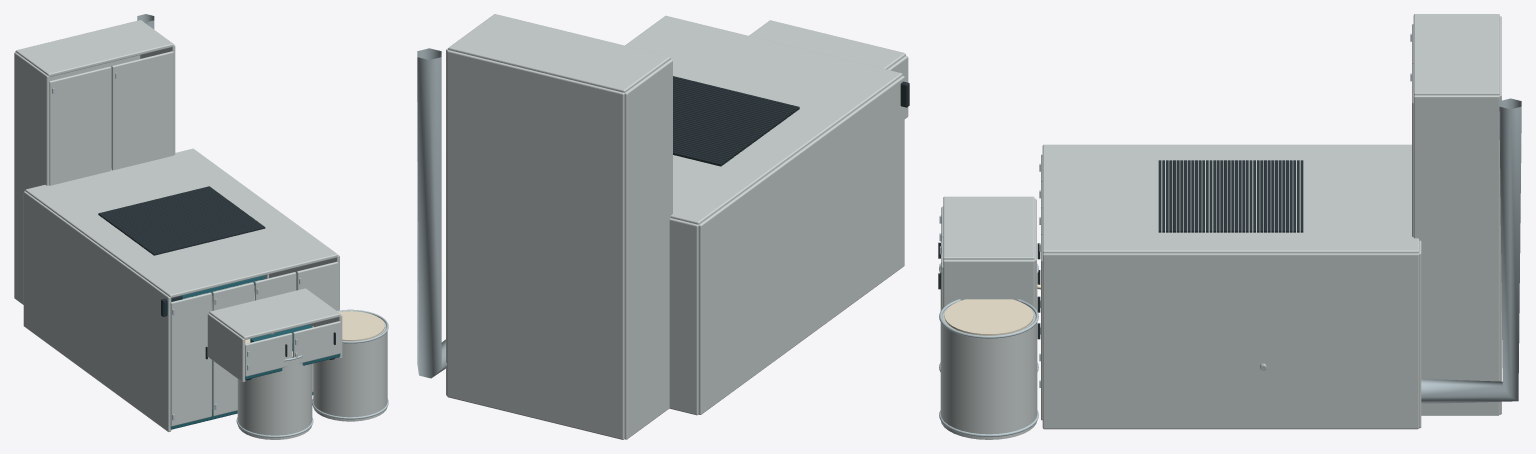
Rendered from carding.glb.
3 views of the same model, side by side, from view 1: azimuth 30°, elevation 25°; view 2: azimuth 150°, elevation 25°; view 3: azimuth 270°, elevation 25° (orthographic). The views are drawn at different scales.
Parts seen in each view (by area): view 1: C81_main_end, C81_main_roof, C81_feed_chute_door.001, C81_feed_chute_door, C81_feed_chute_end, can_body.001, C81_main_door, can_body, C81_feed_chute_roof, C81_coiler_roof, C81_main_door.001, C81_coiler_end (+9 smaller); view 2: C81_feed_chute_rear, C81_main_end, C81_main_roof, C81_feed_chute_end, C81_feed_chute_roof, C81_suction_main, C81_main_rear, C81_coiler_roof, C81_feed_chute_end.001; view 3: C81_main_end.001, C81_main_roof, C81_feed_chute_end.001, can_body.001, C81_suction_main, C81_feed_chute_roof, C81_coiler_roof, C81_coiler_end.001, sliver_surface.001, can_rim.003, C81_main_rear.
Boxes of the visible parts, x1=… form: C81_main_end: x1=23, y1=191, x2=171, y2=431; C81_main_roof: x1=25, y1=148, x2=338, y2=297; C81_feed_chute_door.001: x1=111, y1=51, x2=173, y2=170; C81_feed_chute_door: x1=49, y1=66, x2=110, y2=185; C81_feed_chute_end: x1=14, y1=52, x2=49, y2=304; can_body.001: x1=313, y1=319, x2=387, y2=421; C81_main_door: x1=170, y1=292, x2=211, y2=426; can_body: x1=237, y1=358, x2=312, y2=439; C81_feed_chute_roof: x1=15, y1=20, x2=173, y2=76; C81_coiler_roof: x1=209, y1=288, x2=340, y2=339; C81_main_door.001: x1=212, y1=282, x2=253, y2=416; C81_coiler_end: x1=207, y1=313, x2=245, y2=382; C81_feed_chute_rear: x1=447, y1=50, x2=624, y2=439; C81_main_end: x1=698, y1=76, x2=904, y2=414; C81_main_roof: x1=625, y1=15, x2=902, y2=224; C81_feed_chute_end: x1=624, y1=59, x2=672, y2=439; C81_feed_chute_roof: x1=448, y1=14, x2=670, y2=92; C81_suction_main: x1=417, y1=48, x2=446, y2=378; C81_main_rear: x1=669, y1=218, x2=698, y2=415; C81_coiler_roof: x1=749, y1=20, x2=905, y2=69; C81_feed_chute_end.001: x1=446, y1=48, x2=448, y2=395; C81_main_end.001: x1=1042, y1=253, x2=1419, y2=429; C81_main_roof: x1=1042, y1=144, x2=1419, y2=253; C81_feed_chute_end.001: x1=1413, y1=95, x2=1499, y2=415; can_body.001: x1=940, y1=306, x2=1037, y2=439; C81_suction_main: x1=1421, y1=98, x2=1521, y2=403; C81_feed_chute_roof: x1=1413, y1=14, x2=1499, y2=95; C81_coiler_roof: x1=943, y1=196, x2=1034, y2=259; C81_coiler_end.001: x1=943, y1=259, x2=1034, y2=307; sliver_surface.001: x1=944, y1=299, x2=1033, y2=335; can_rim.003: x1=939, y1=299, x2=1038, y2=338; C81_main_rear: x1=1419, y1=240, x2=1421, y2=428.
Size of the model in its own units: 2.77 by 3.3 by 5.43.
